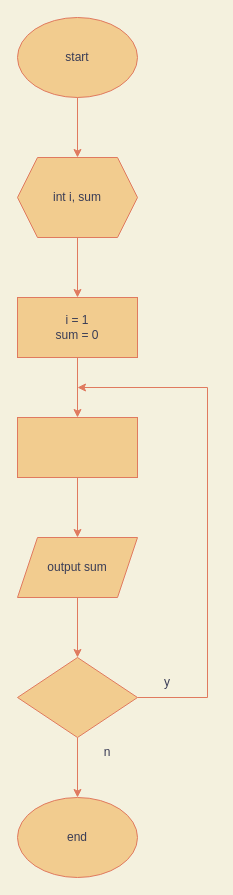
Some shapes in this 233 by 895 pixel diagram are drawn without their labels. Here are the shapes that lost their labels. From the top down, the centre of each, then its label:
point 77,447: sum += 1
point 77,697: i <= 30
